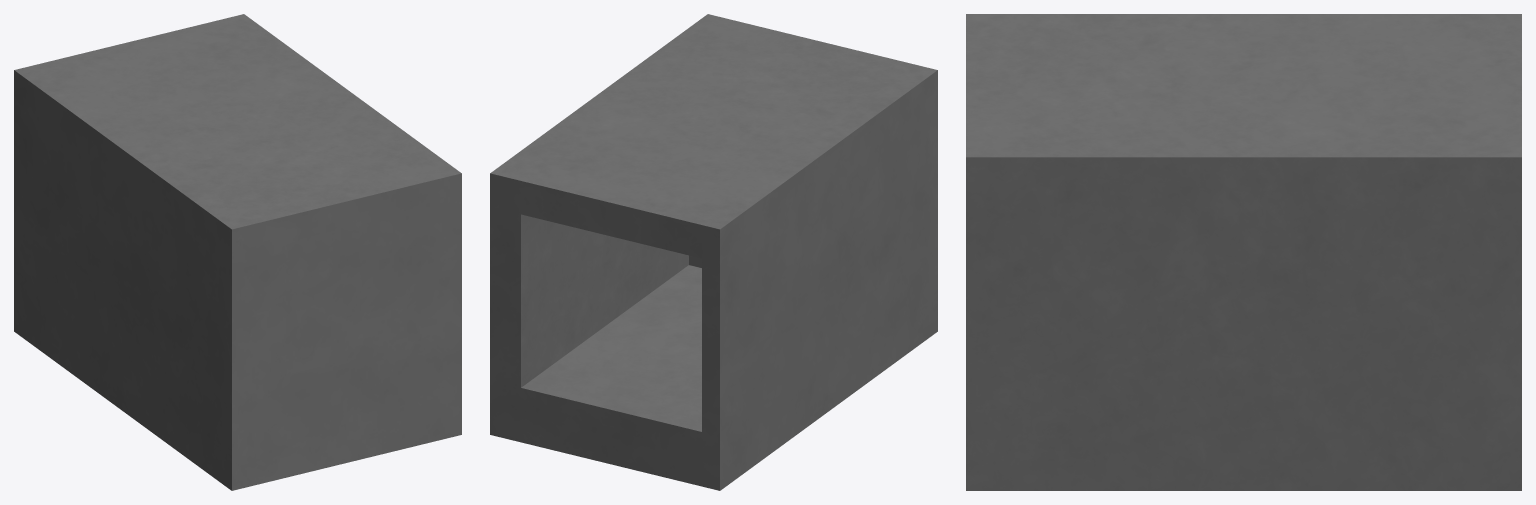
Rendered from Elevator_sect.fbx.
3 renders of one model, left to right at view 1: azimuth 30°, elevation 25°; view 2: azimuth 150°, elevation 25°; view 3: azimuth 270°, elevation 25°, orthographic. The views are drawn at different scales.
Parts seen in each view (by area): view 1: Boolean5; view 2: Boolean5; view 3: Boolean5.
Boxes of the visible parts, x1,y1,x2,y2 form: Boolean5: (14, 14, 461, 490); Boolean5: (490, 14, 937, 490); Boolean5: (966, 14, 1521, 490).
Bounding box in the file's own units: 750 × 1230 × 815.
1 material, 1 textured.
